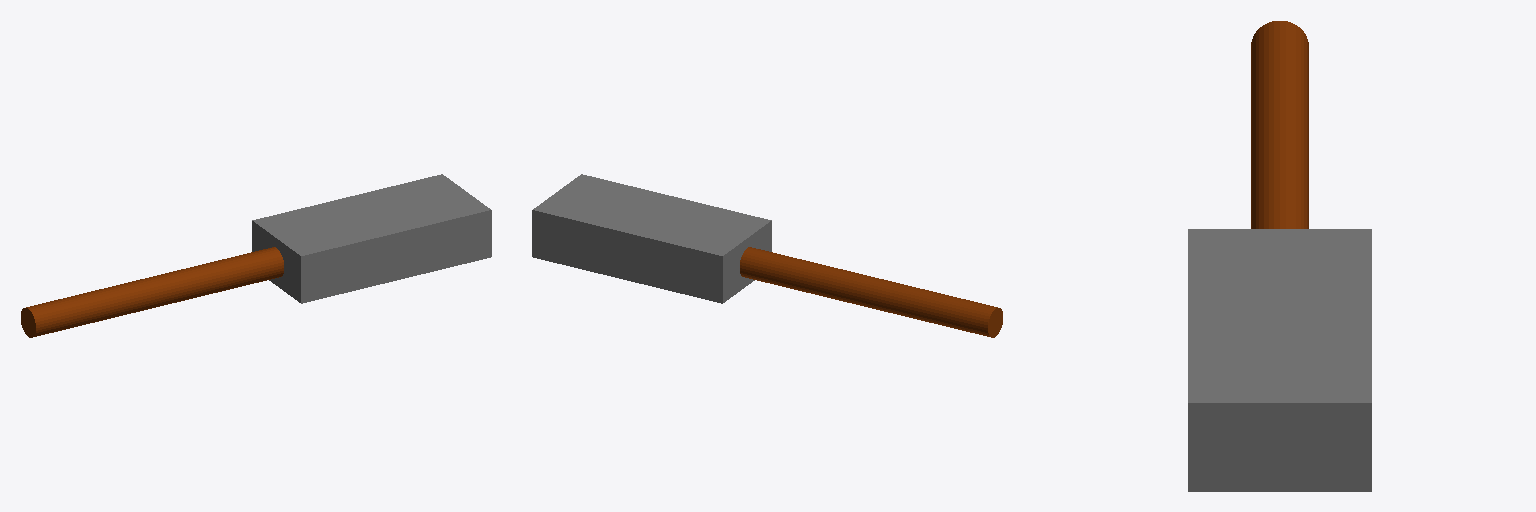
The robot description file, URDF, robot "handle_head":
<?xml version="1.0"?>
<robot name="handle_head">

  <link name="handle_head">
    <!-- Handle -->
    <visual>
              <origin xyz="0 0 0" rpy="0 -1.5707963267948966 0"/>
        <geometry>
          <cylinder length="0.13131792426909142" radius="0.007101923668355478"/>
        </geometry>
        
      <material name="brown">
        <color rgba="0.55 0.27 0.07 1.0"/>
      </material>
    </visual>
    <collision>
              <origin xyz="0 0 0" rpy="0 -1.5707963267948966 0"/>
        <geometry>
          <cylinder length="0.13131792426909142" radius="0.007101923668355478"/>
        </geometry>
        
    </collision>

    <!-- Head -->
    <visual>
              <origin xyz="0.11594180323658446 0 0" rpy="0 0 0"/>
        <geometry>
          <box size="0.1005656822040775 0.044867547614267166 0.023969611329767063"/>
        </geometry>
        
      <material name="gray">
        <color rgba="0.5 0.5 0.5 1.0"/>
      </material>
    </visual>
    <collision>
              <origin xyz="0.11594180323658446 0 0" rpy="0 0 0"/>
        <geometry>
          <box size="0.1005656822040775 0.044867547614267166 0.023969611329767063"/>
        </geometry>
        
    </collision>

    <inertial>
      <origin xyz="0.09004199898369636 0 0" rpy="0 0 0"/>
      <mass value="0.05395331562980935"/>
      <inertia ixx="9.335221903455068e-06" iyy="0.00018323380706791913" izz="0.00018825686640700954" ixy="0" ixz="0" iyz="0"/>
    </inertial>
  </link>

</robot>

--- Render facts (derived) ---
Views: 3 orthographic renders of the robot side by side, from view 1: azimuth 30°, elevation 25°; view 2: azimuth 150°, elevation 25°; view 3: azimuth 270°, elevation 25°.
Model handle_head with 1 links and 0 joints (none), rooted at handle_head, posed all joints at 0.
Visible links, largest first — view 1: handle_head; view 2: handle_head; view 3: handle_head.
Link boxes in pixels (left/top/right/bottom): handle_head: left=21, top=174, right=491, bottom=337; handle_head: left=532, top=174, right=1002, bottom=337; handle_head: left=1188, top=21, right=1371, bottom=491.
Size in the robot's own frame: 0.2319 by 0.0449 by 0.024 metres.
Geometry: primitives only (box / cylinder / sphere), no mesh files.
